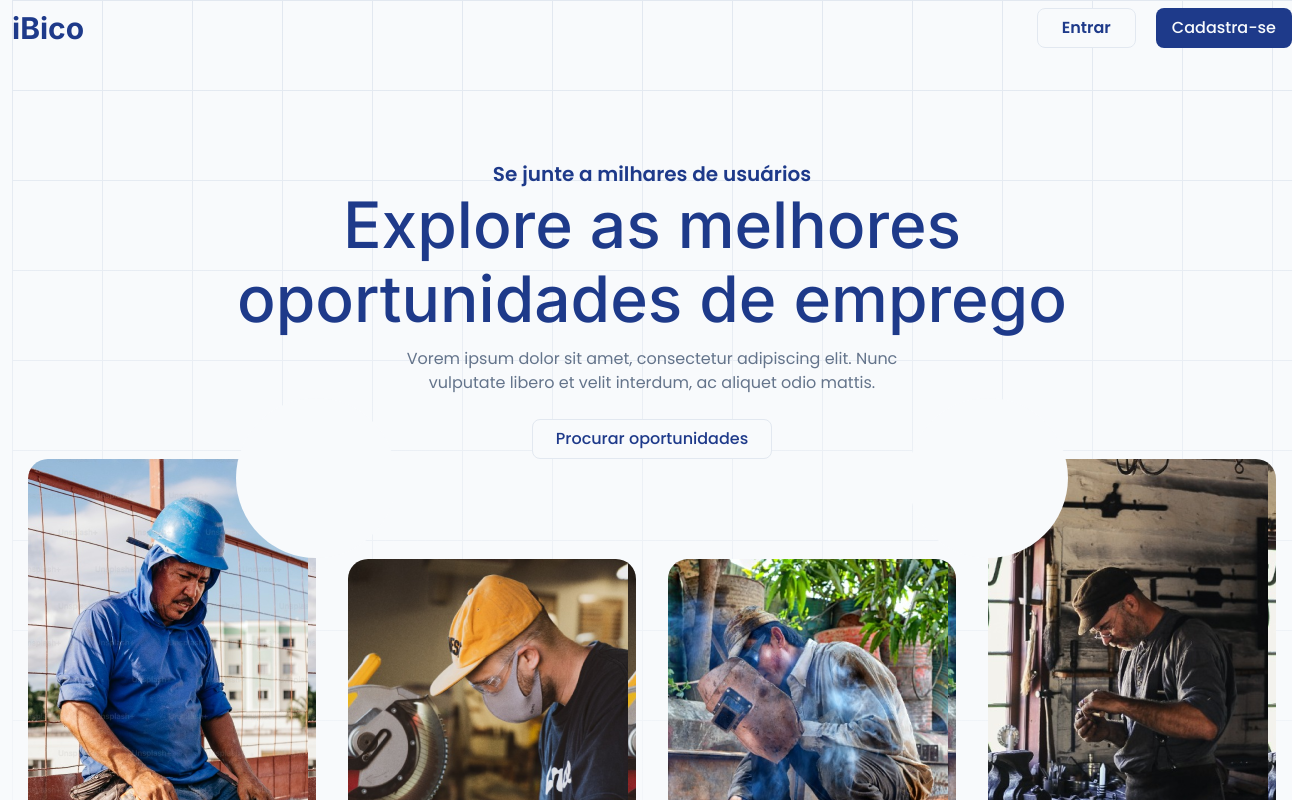
Test case: Navigation › should navigate to the register page
This screenshot has width=1292, height=800.
Click the link "Cadastra-se". click: {"x": 1224, "y": 28}
box: 1156,8 -> 1291,48
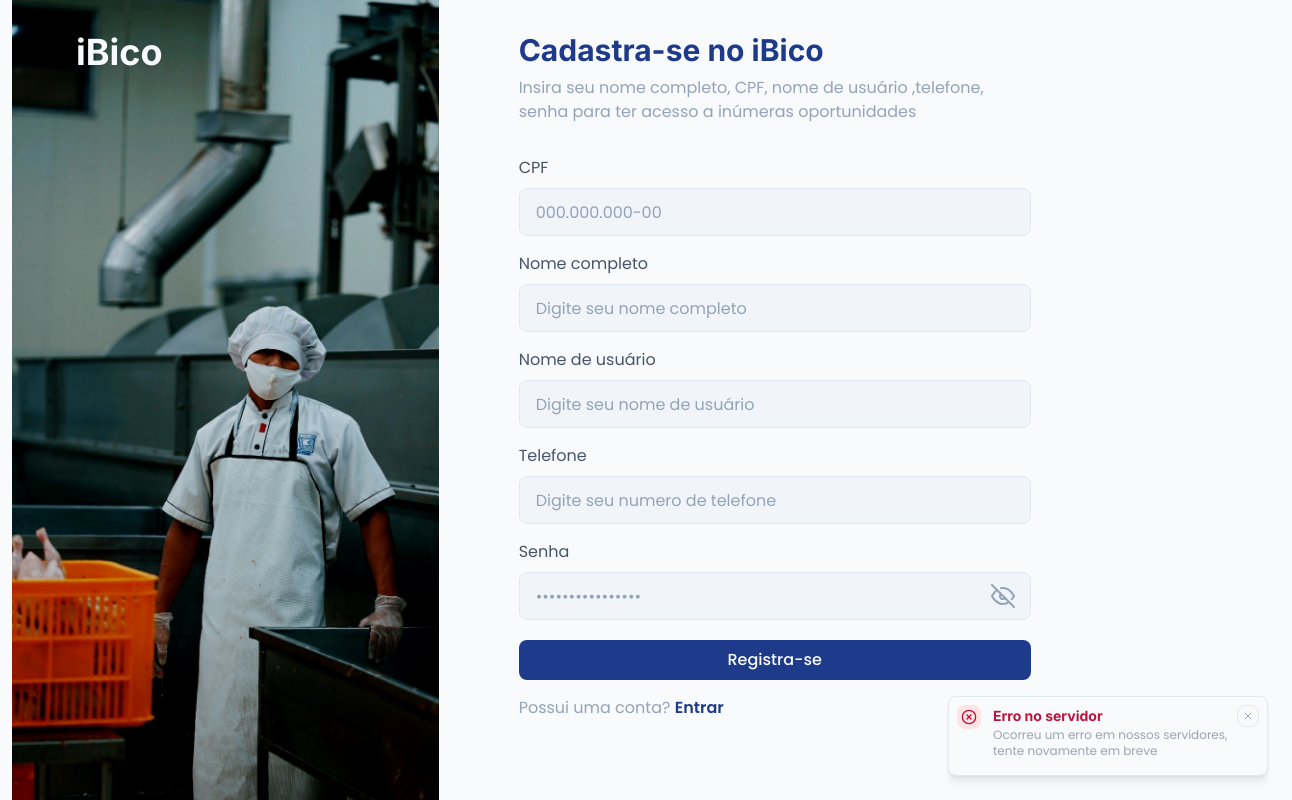
Now the heading "Cadastra-se no iBico" is shown, box 519,32 -> 824,68
